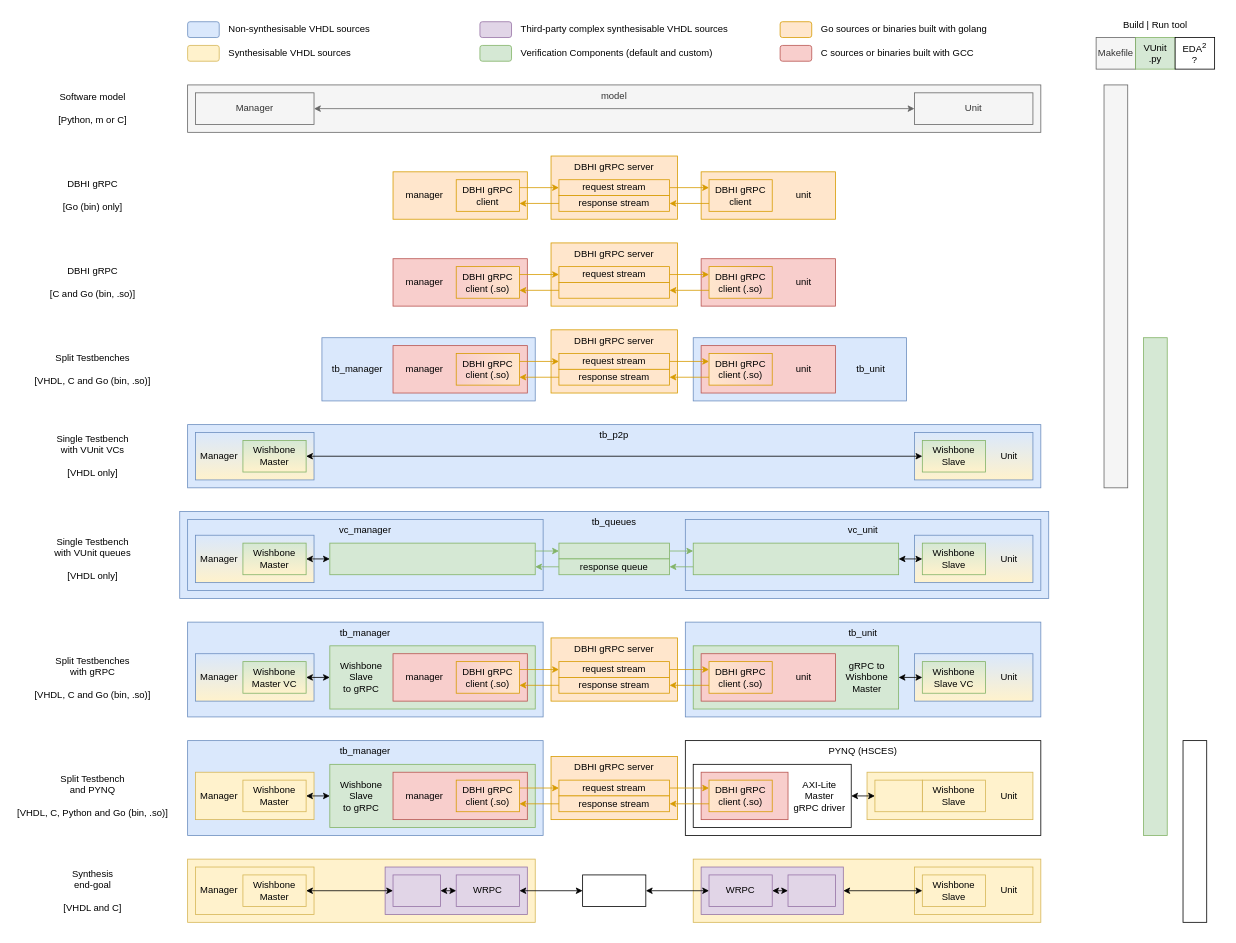
This 1236x943 diagram has some shape labels left out. The centre of each missing label's shape, as x and y in pixels:
AXILS to WBM: (898,795)
Etherbone Master: (811,890)
EtherBone Slave: (416,890)
queue to Wishbone Master: (795,558)
request queue: (614,550)
WhiteRabbit Switch: (614,890)
Wishbone Slave to queue: (432,558)
